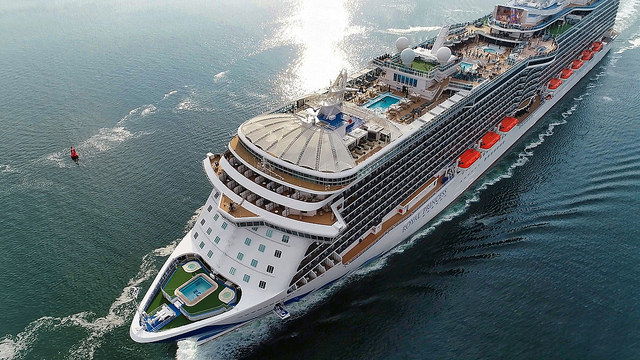cruise_ship: (125, 4, 622, 348)
